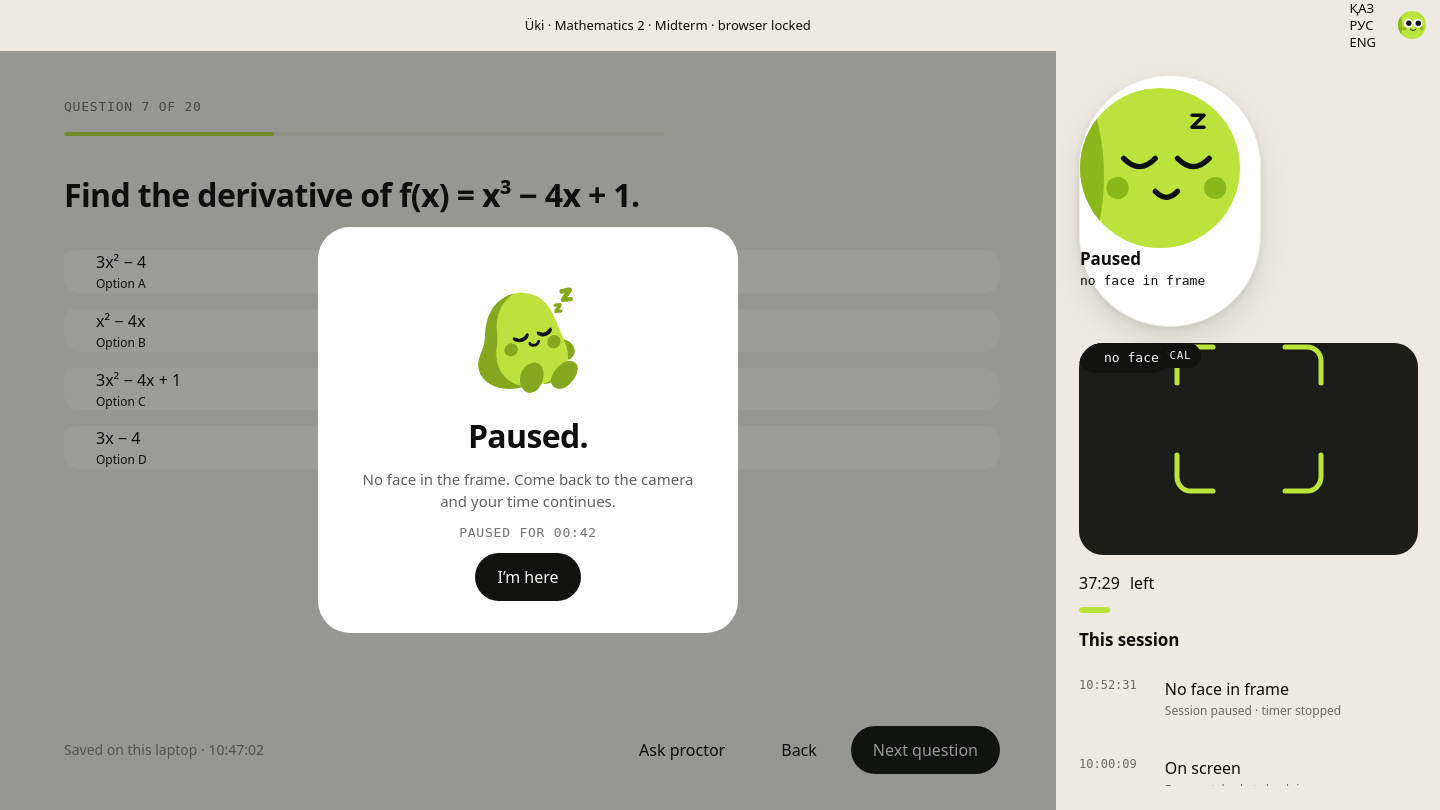
Test: Ask proctor › reaches the sheet above 2.3's veil, and Cancel closes it without sending
Click the button "Ask proctor": (682, 750) [617,726,747,774]
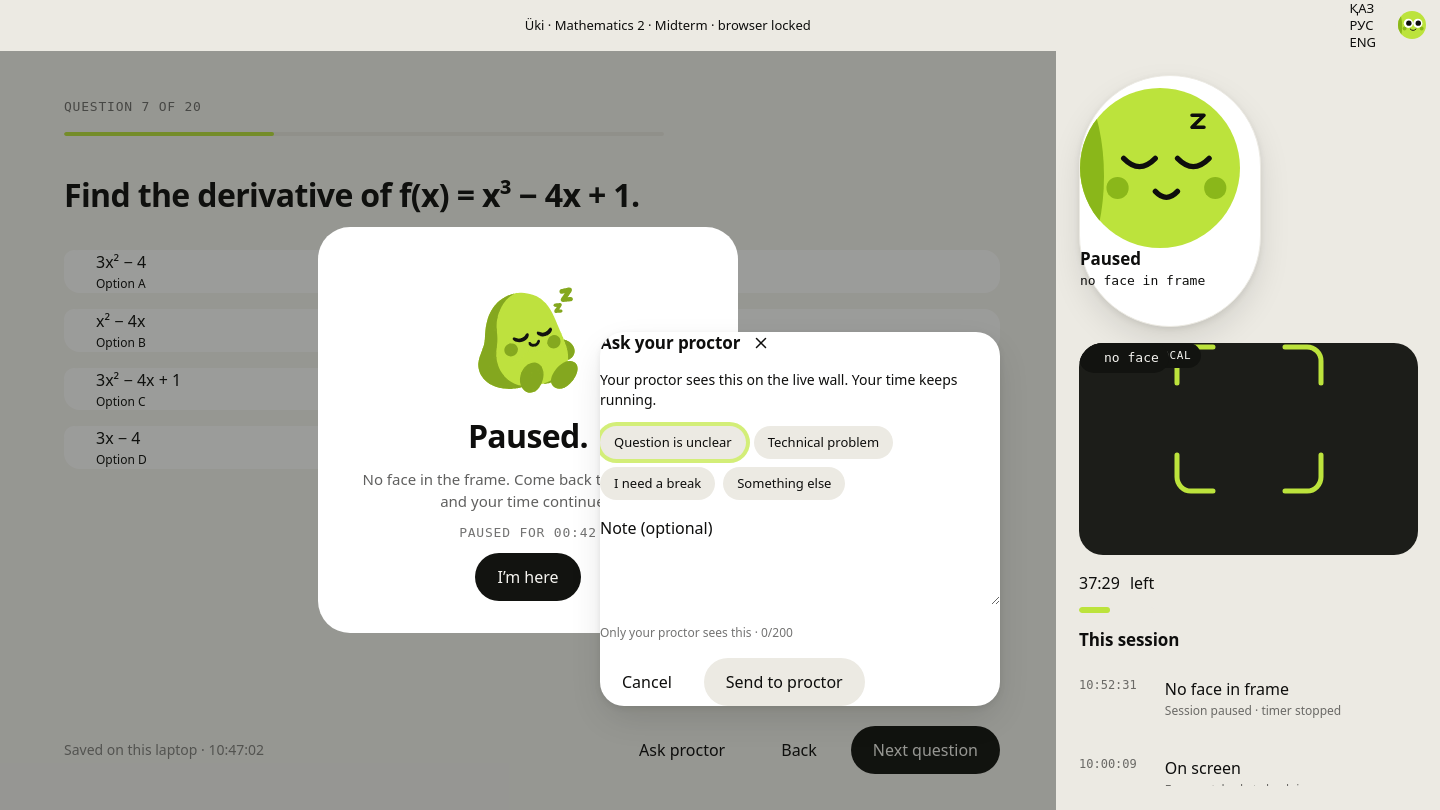
Click the button "Cancel": (647, 682) [600,658,694,706]
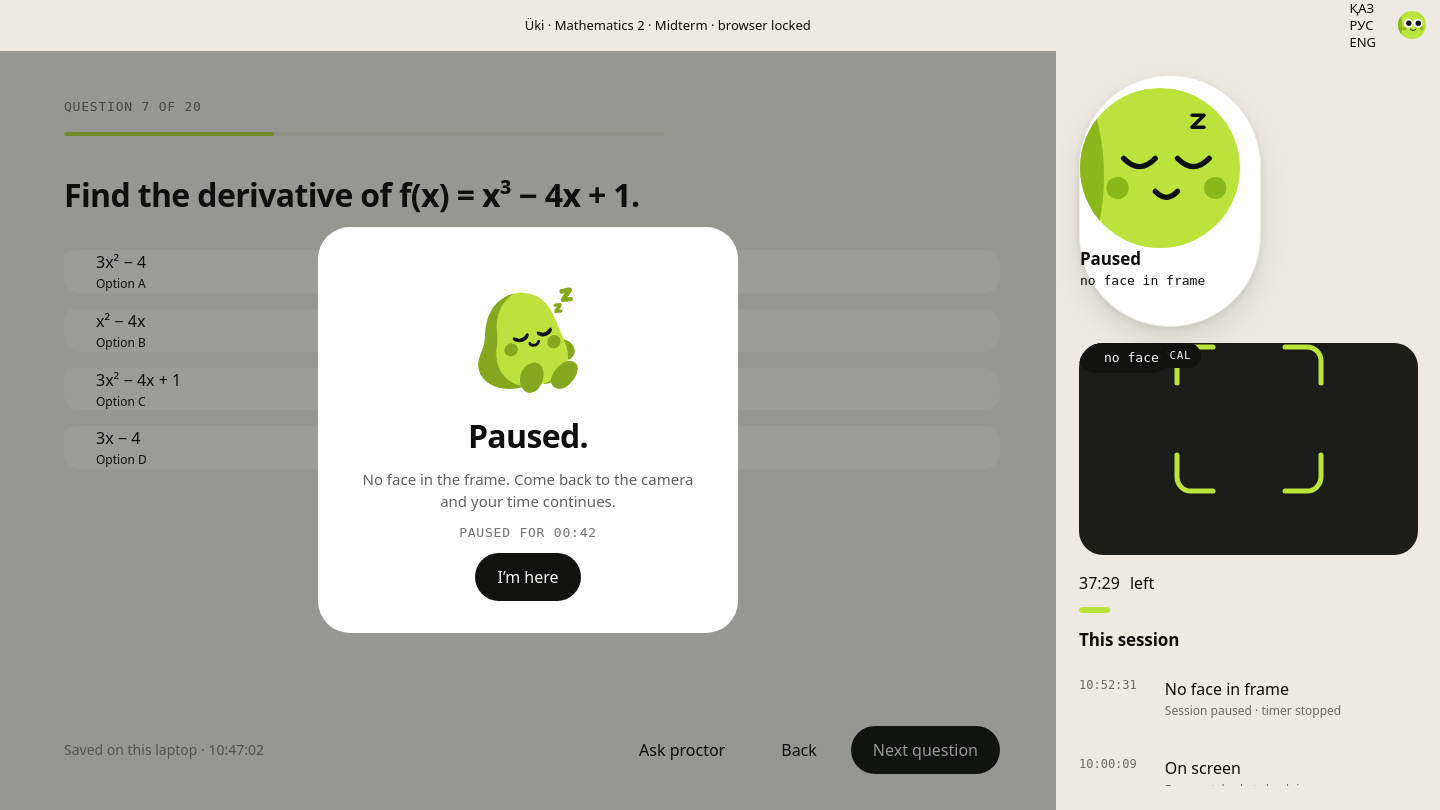
Expected: the heading "Ask your proctor" is gone
